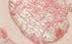plaque psoriasis: (0, 0, 72, 44), (0, 32, 35, 44), (61, 37, 72, 44)
